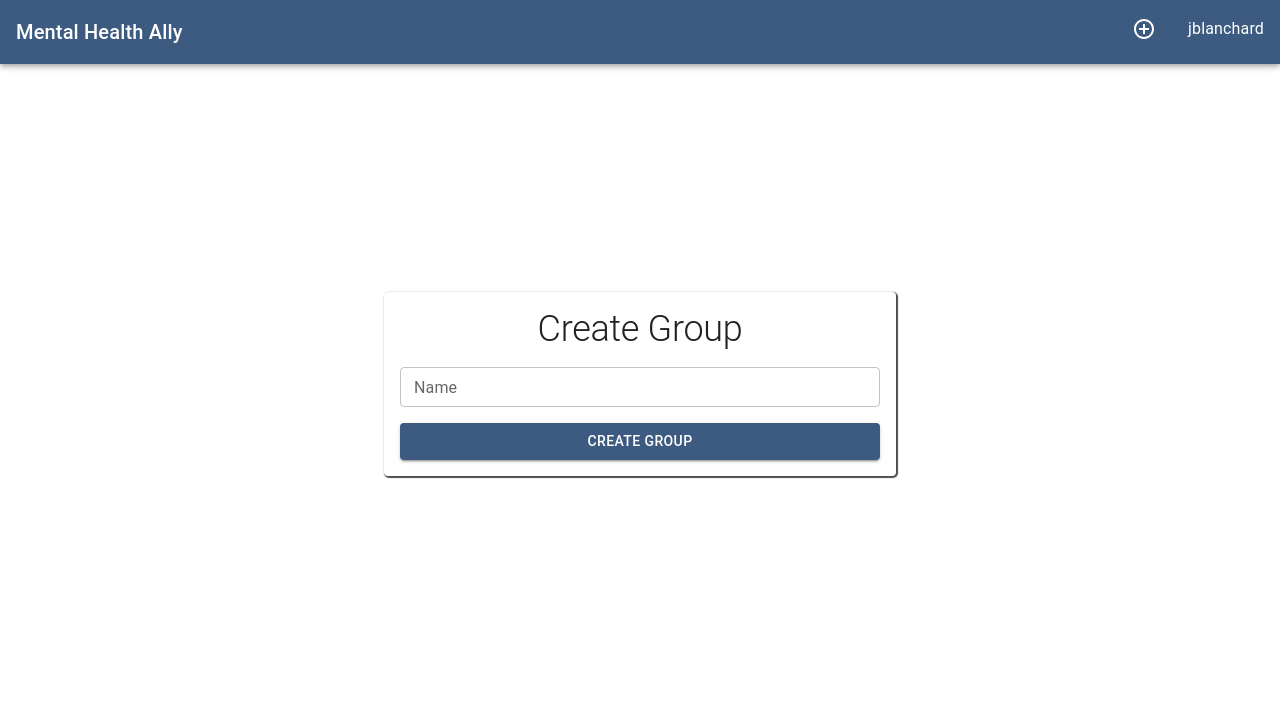
Test case: Create Group Page › Submitting form without filling in required field results in error text being rendered
Click the button "Create Group": (640, 442) [400,423,880,460]
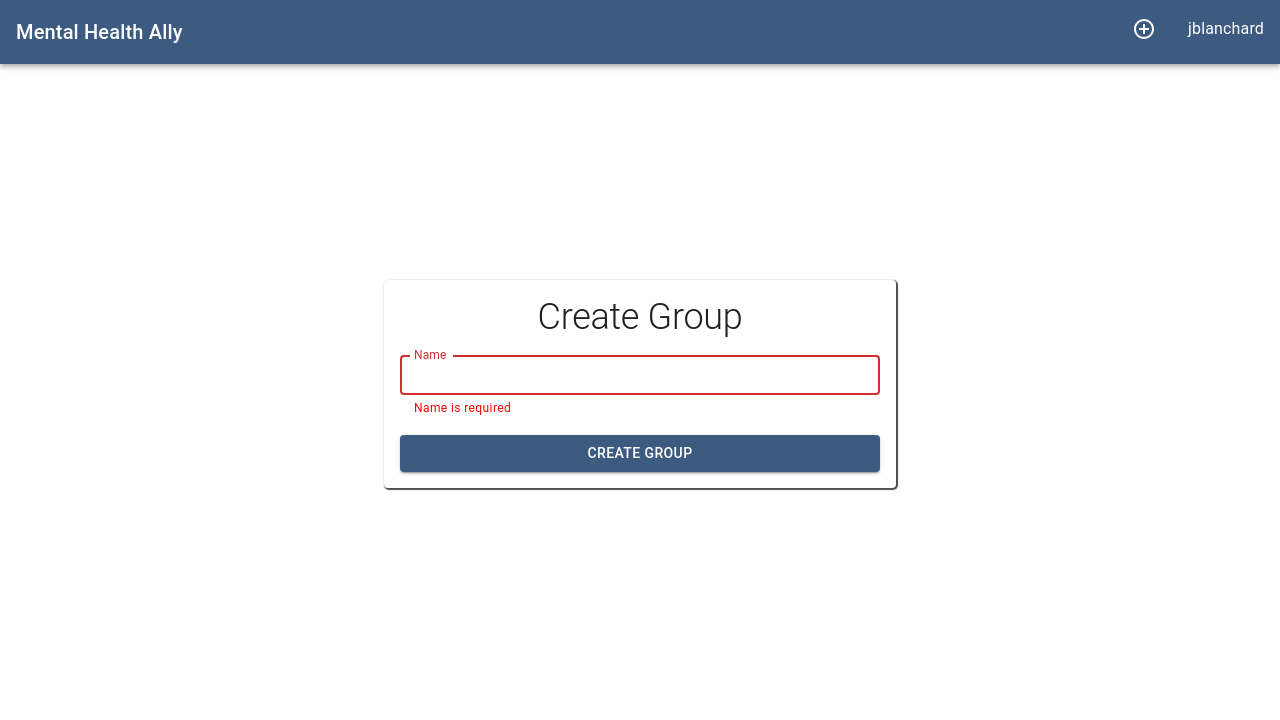
Check: the message "Name is required" is shown, box [414,401,511,415]
